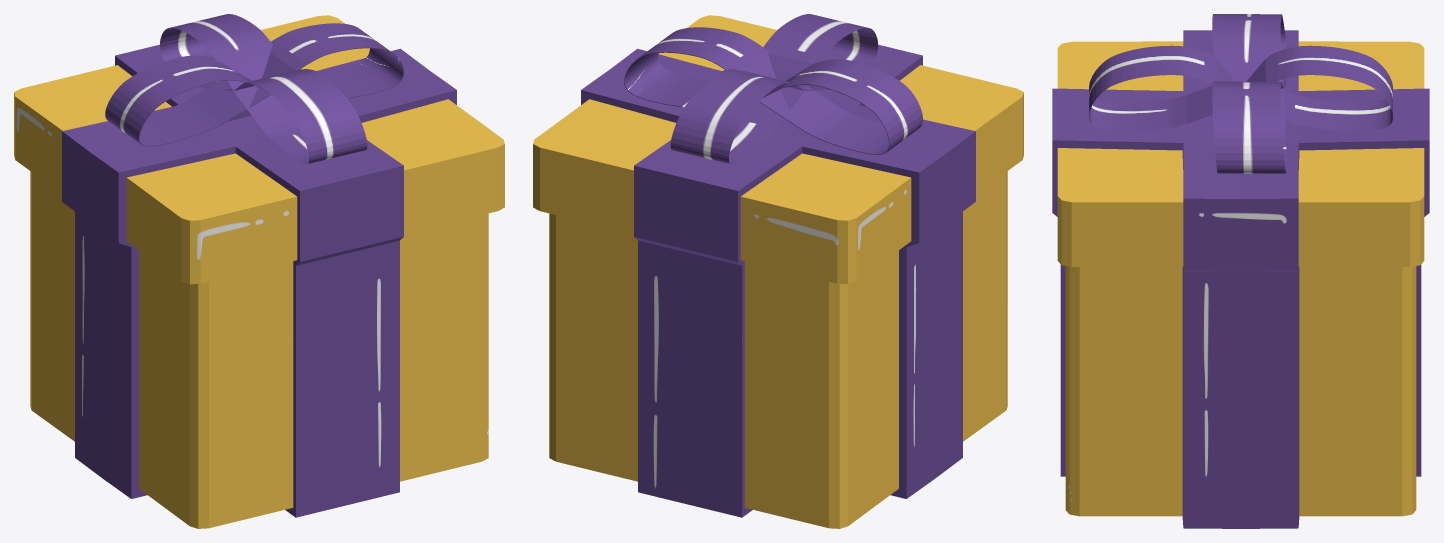
The model's file is Gift_11.glb.
The picture shows the model from 3 angles, left to right: view 1: azimuth 30°, elevation 25°; view 2: azimuth 150°, elevation 25°; view 3: azimuth 270°, elevation 25°; orthographic projection.
Parts seen in each view (by area): view 1: XmasGifts_01; view 2: XmasGifts_01; view 3: XmasGifts_01.
Boxes of the visible parts, box(x1,y1,x2,y2) form: XmasGifts_01: box(14, 14, 504, 528); XmasGifts_01: box(533, 14, 1023, 528); XmasGifts_01: box(1052, 14, 1429, 528).
Size of the model in its own units: 2.27 by 2.47 by 2.15.
2 materials, 2 textured.
